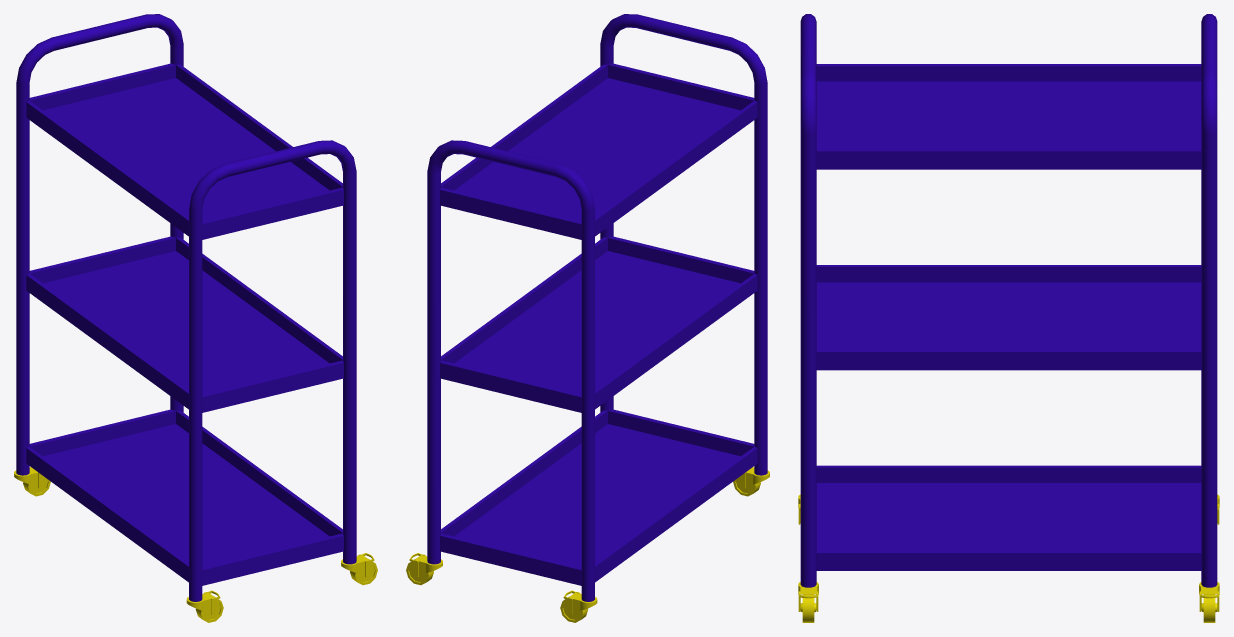
Rendered from NuevaMesa_LowPoly_v9.fbx.
3 views of the same model, side by side, from view 1: azimuth 30°, elevation 25°; view 2: azimuth 150°, elevation 25°; view 3: azimuth 270°, elevation 25° (orthographic). The views are drawn at different scales.
Parts seen in each view (by area): view 1: pCube11, pCube19, pCube15, pTorus4, pTorus5; view 2: pCube11, pCube19, pCube15, pTorus5, pTorus4; view 3: pCube11, pCube15, pCube19, pTorus5, pTorus4.
Part boxes in pixels (left/top/right/bottom): pCube11: left=26, top=63, right=343, bottom=239; pCube19: left=26, top=409, right=343, bottom=585; pCube15: left=26, top=236, right=343, bottom=412; pTorus4: left=189, top=140, right=356, bottom=601; pTorus5: left=16, top=14, right=183, bottom=475; pCube11: left=440, top=63, right=757, bottom=239; pCube19: left=440, top=409, right=757, bottom=585; pCube15: left=440, top=236, right=757, bottom=412; pTorus5: left=427, top=140, right=594, bottom=601; pTorus4: left=600, top=14, right=767, bottom=475; pCube11: left=816, top=64, right=1201, bottom=169; pCube15: left=816, top=265, right=1201, bottom=370; pCube19: left=816, top=465, right=1201, bottom=570; pTorus5: left=1201, top=14, right=1217, bottom=587; pTorus4: left=800, top=14, right=816, bottom=587.
Bounding box in the file's own units: 0.4346 × 0.9999 × 0.7288.
